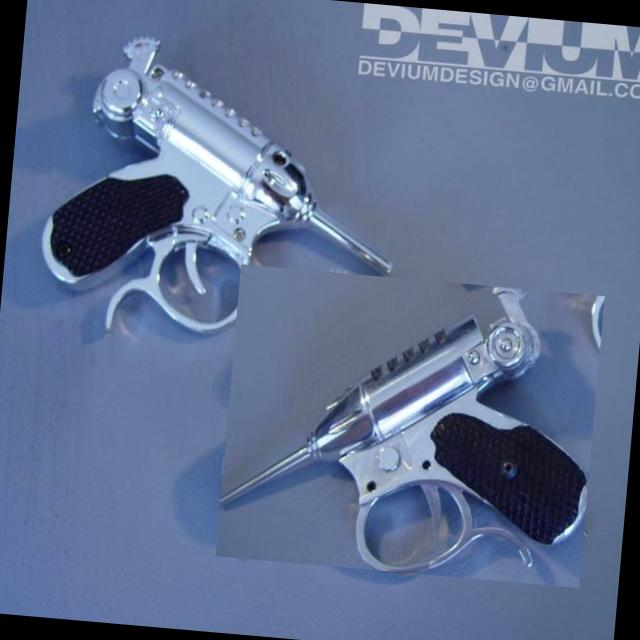Gun: (220, 287, 588, 571), (41, 37, 391, 333)
